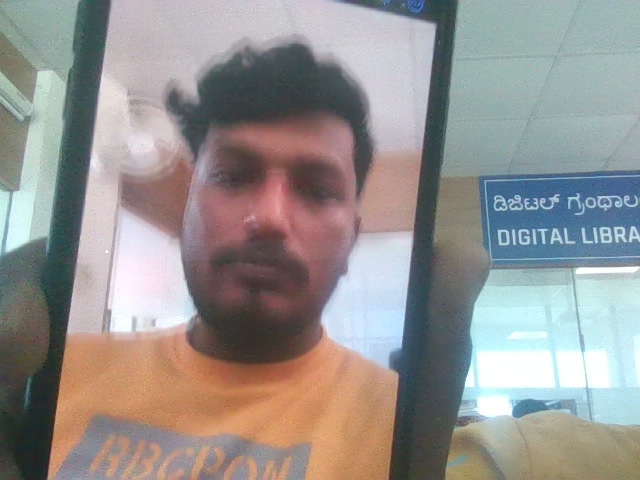fake: (155, 25, 387, 354)
